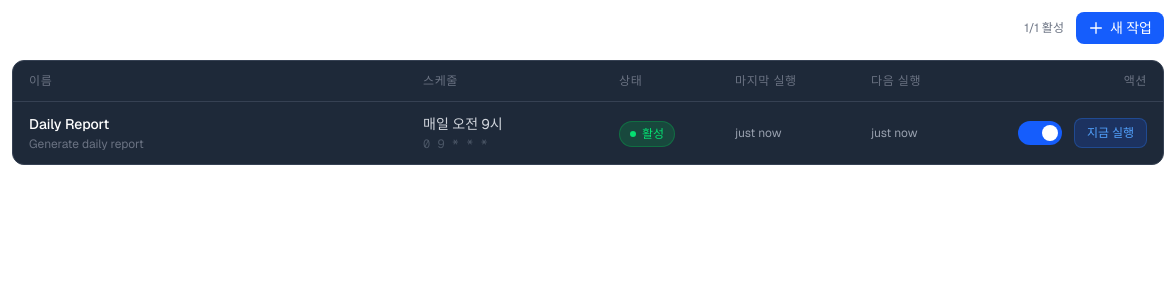
Test: CronJobsPanel › Row expand to see run history › expands job row to show run history when clicked
Click the button that starts with "Daily Report": x=69, y=124 top-left (29, 115), bottom-right (1147, 152)
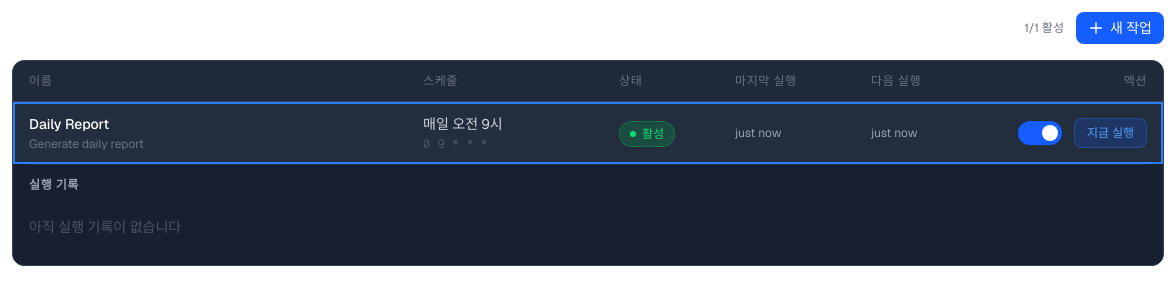
expect the heading "실행 기록" is shown: met, box top-left (29, 177), bottom-right (79, 193)
expect the text "아직 실행 기록이 없습니다" is shown: met, box top-left (29, 218), bottom-right (181, 236)
